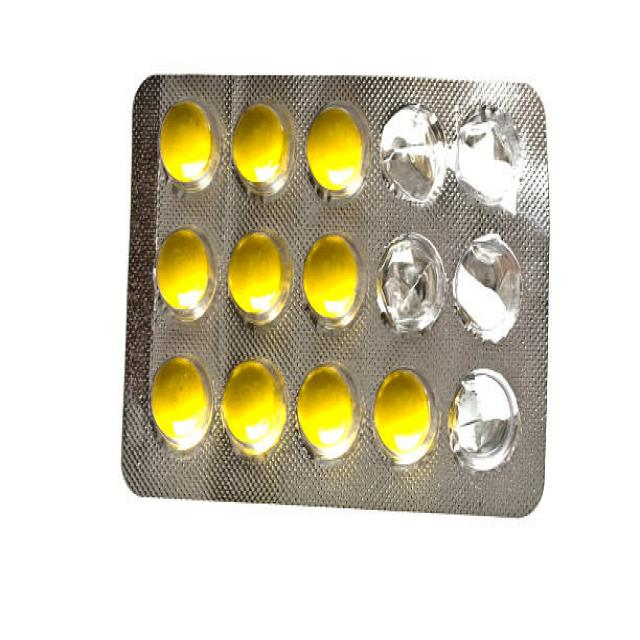Empty: (450, 218, 527, 348), (370, 223, 450, 343), (446, 360, 520, 486), (453, 94, 528, 214), (374, 92, 449, 207)
Pill: (366, 355, 442, 476), (142, 340, 214, 462), (294, 355, 363, 472), (222, 348, 287, 470), (148, 220, 219, 327), (149, 88, 220, 194), (301, 90, 368, 200), (229, 94, 295, 203), (224, 222, 291, 329), (300, 222, 362, 336)
